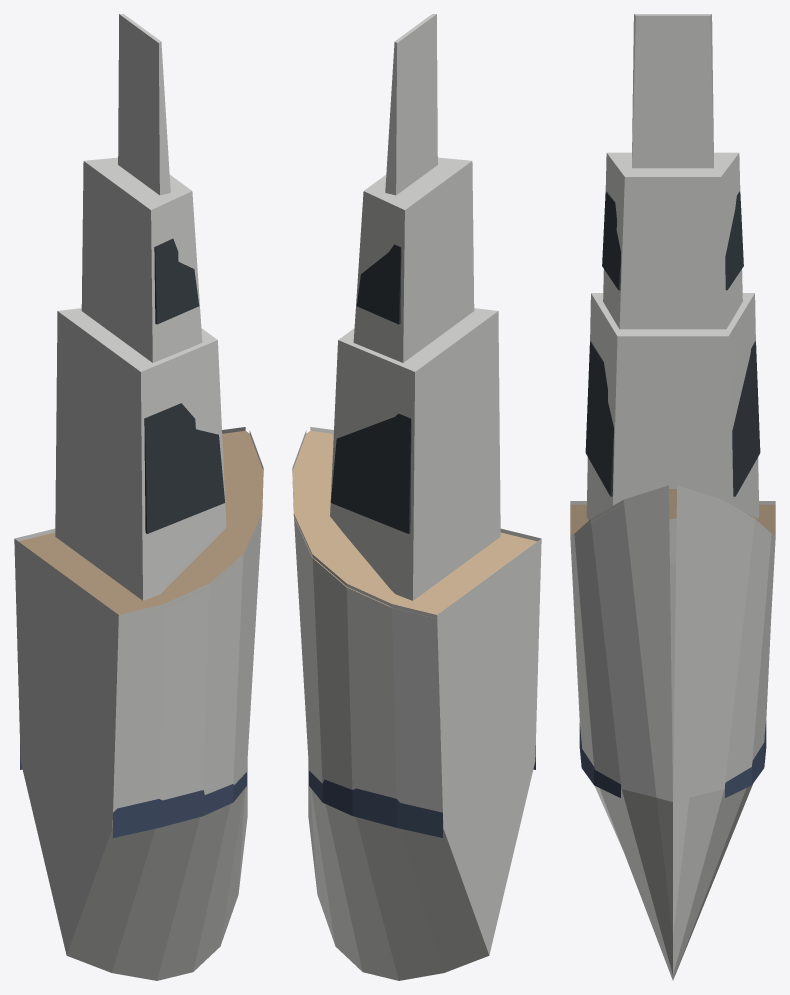
The model's file is monaco_yacht.glb.
3 views of the same model, side by side, from view 1: azimuth 30°, elevation 25°; view 2: azimuth 150°, elevation 25°; view 3: azimuth 270°, elevation 25° (orthographic).
Parts seen in each view (by area): view 1: Yacht gelcoat, Yacht dark glass, Yacht teak deck, Yacht boot stripe; view 2: Yacht gelcoat, Yacht teak deck, Yacht dark glass, Yacht boot stripe; view 3: Yacht gelcoat, Yacht dark glass, Yacht boot stripe, Yacht teak deck.
Part boxes in pixels (left/top/right/bottom): Yacht gelcoat: left=14, top=14, right=263, bottom=980; Yacht dark glass: left=144, top=238, right=224, bottom=533; Yacht teak deck: left=18, top=430, right=263, bottom=616; Yacht boot stripe: left=20, top=745, right=246, bottom=837; Yacht gelcoat: left=292, top=14, right=541, bottom=980; Yacht teak deck: left=292, top=431, right=537, bottom=616; Yacht dark glass: left=331, top=244, right=411, bottom=533; Yacht boot stripe: left=309, top=745, right=535, bottom=837; Yacht gelcoat: left=570, top=14, right=775, bottom=980; Yacht dark glass: left=585, top=191, right=760, bottom=496; Yacht boot stripe: left=579, top=721, right=766, bottom=797; Yacht teak deck: left=570, top=489, right=775, bottom=538.
Bounding box in the file's own units: 1 × 5.05 × 1.
